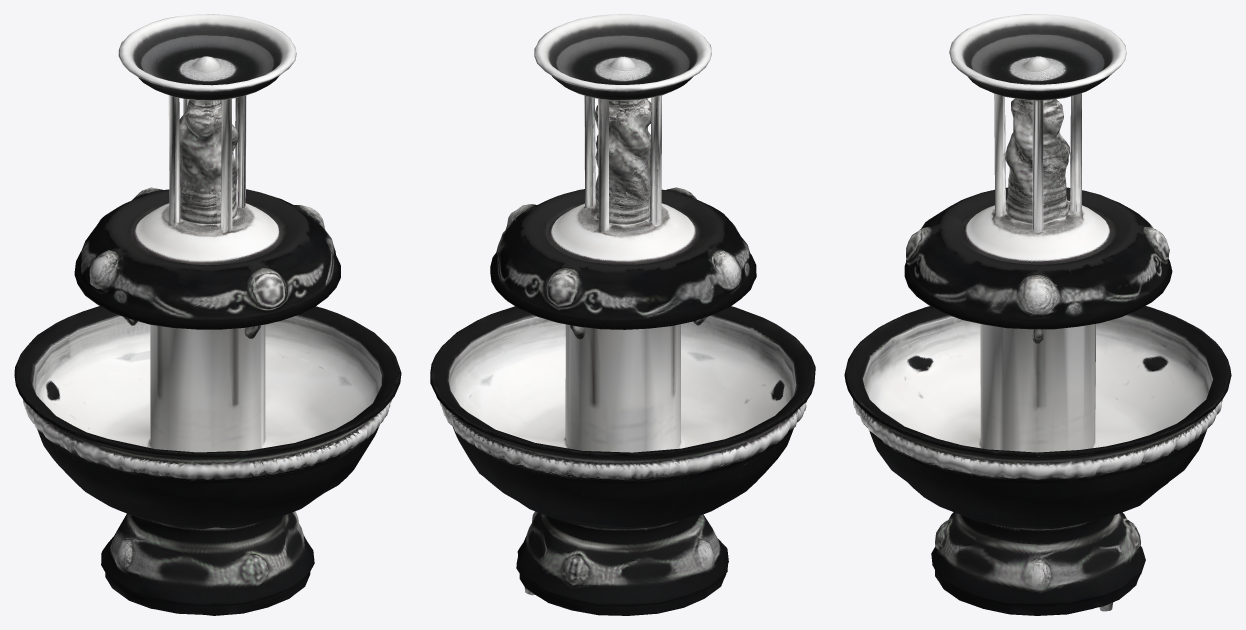
File: 5_GALLON_SILVER_Fountain_TableTOP_36INCHESTALL_0222023424_texture.glb
The picture shows the model from 3 angles, left to right: view 1: azimuth 30°, elevation 25°; view 2: azimuth 150°, elevation 25°; view 3: azimuth 270°, elevation 25°; orthographic projection.
Parts seen in each view (by area): view 1: Mesh_0.001; view 2: Mesh_0.001; view 3: Mesh_0.001.
Part boxes in pixels (x1,y1,x2,y2): Mesh_0.001: (14,14,401,615); Mesh_0.001: (430,14,815,615); Mesh_0.001: (844,14,1231,615).
Bounding box in the file's own units: 0.6027 × 0.9144 × 0.6027.
1 material, 1 textured.
